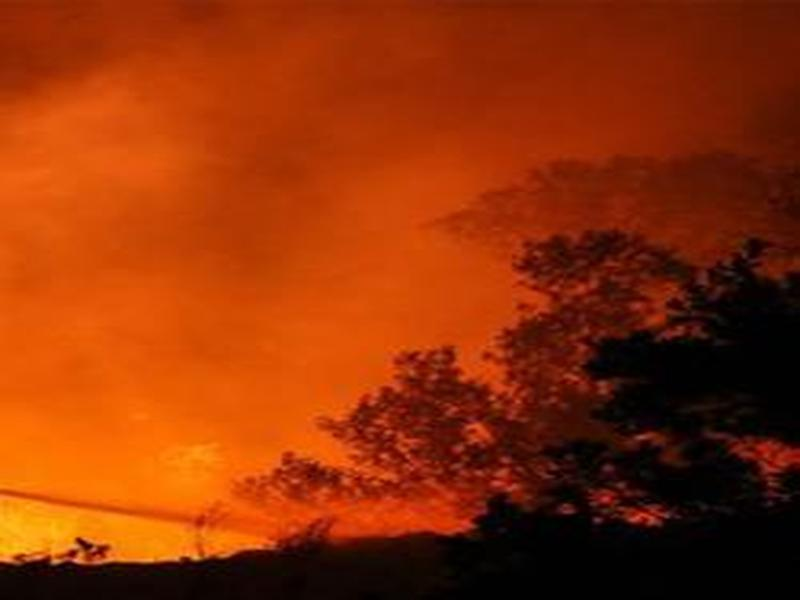FIRE: (15, 361, 628, 600)
